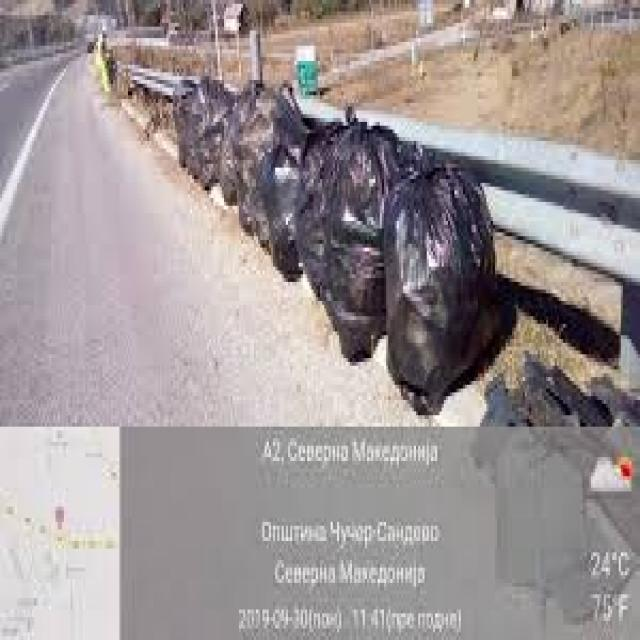plastic_bag: (393, 188, 498, 371), (325, 142, 394, 344), (256, 137, 301, 259)
